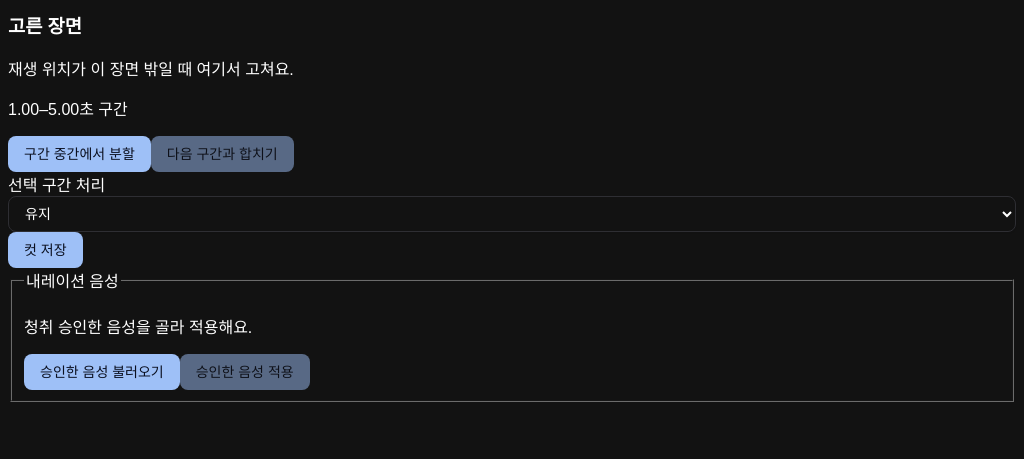
Test: InspectorControls › keeps manual editing available when approved TTS choices cannot be loaded
This screenshot has width=1024, height=459.
Click the button "승인한 음성 불러오기": (102, 372) [24,354,180,390]
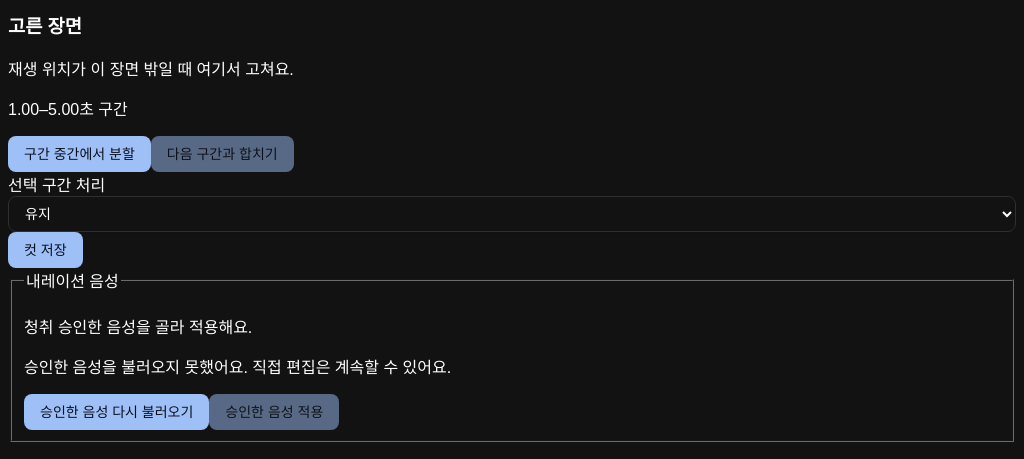
Check: the button "컷 저장" is enabled, box [8,232,82,268]
Check: the text "승인한 음성을 불러오지 못했어요. 직접 편집은 계속할 수 있어요." is shown, box [24,359,451,376]
